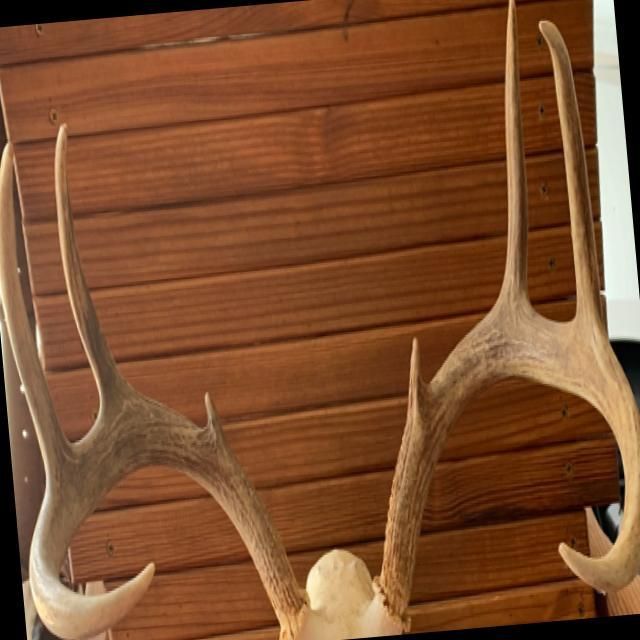L-F: (372, 299, 640, 631)
L-G1: (406, 334, 428, 416)
L-G2: (498, 0, 532, 307)
L-G3: (538, 17, 604, 328)
R-F: (27, 381, 310, 640)
R-G1: (204, 392, 226, 442)
R-G2: (54, 120, 123, 405)
R-G3: (0, 138, 69, 476)
